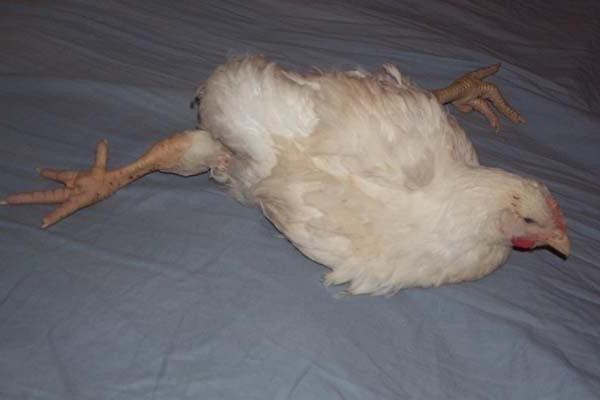AbNormal: (8, 42, 580, 300)
